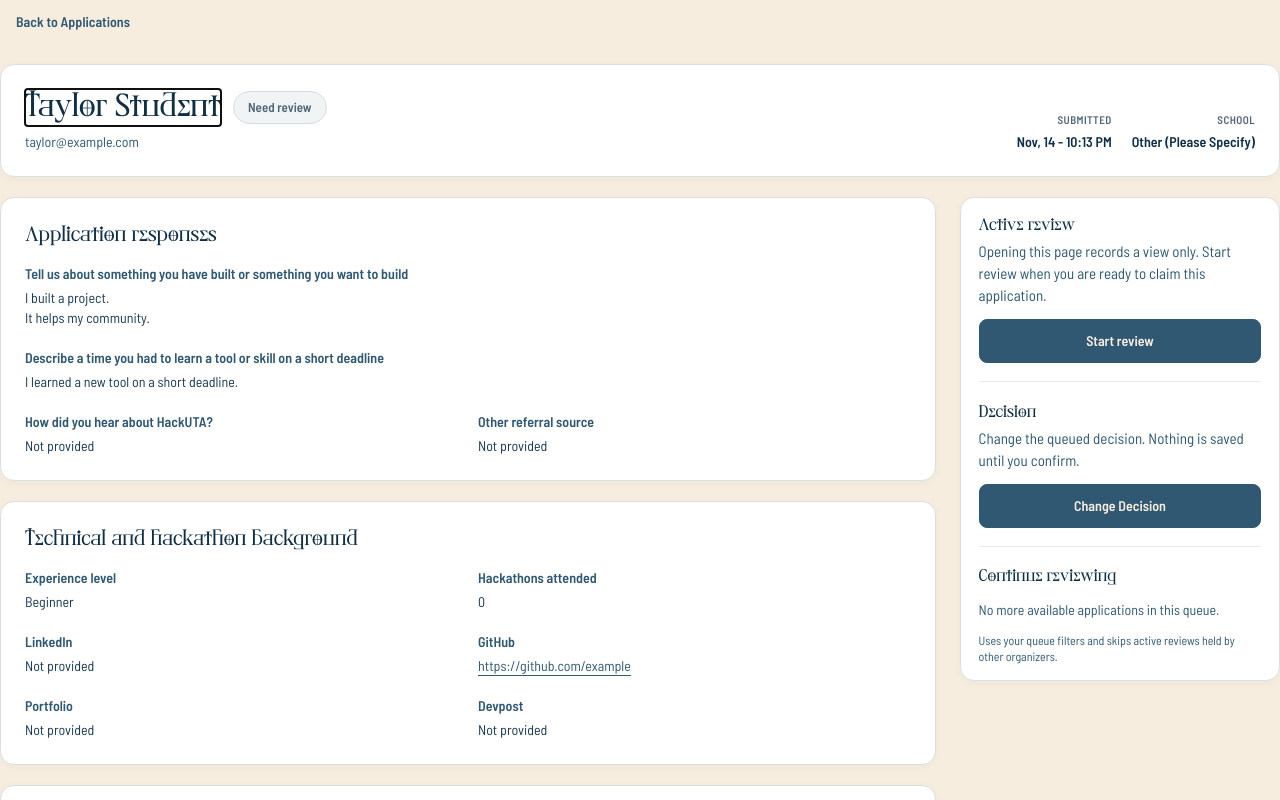
Test: read-only application review page › supports the Back to Applications link without generating another log
The width and height of the screenshot is (1280, 800).
Click the link "Back to Applications". click: (73, 22)
box: [0,0,146,44]
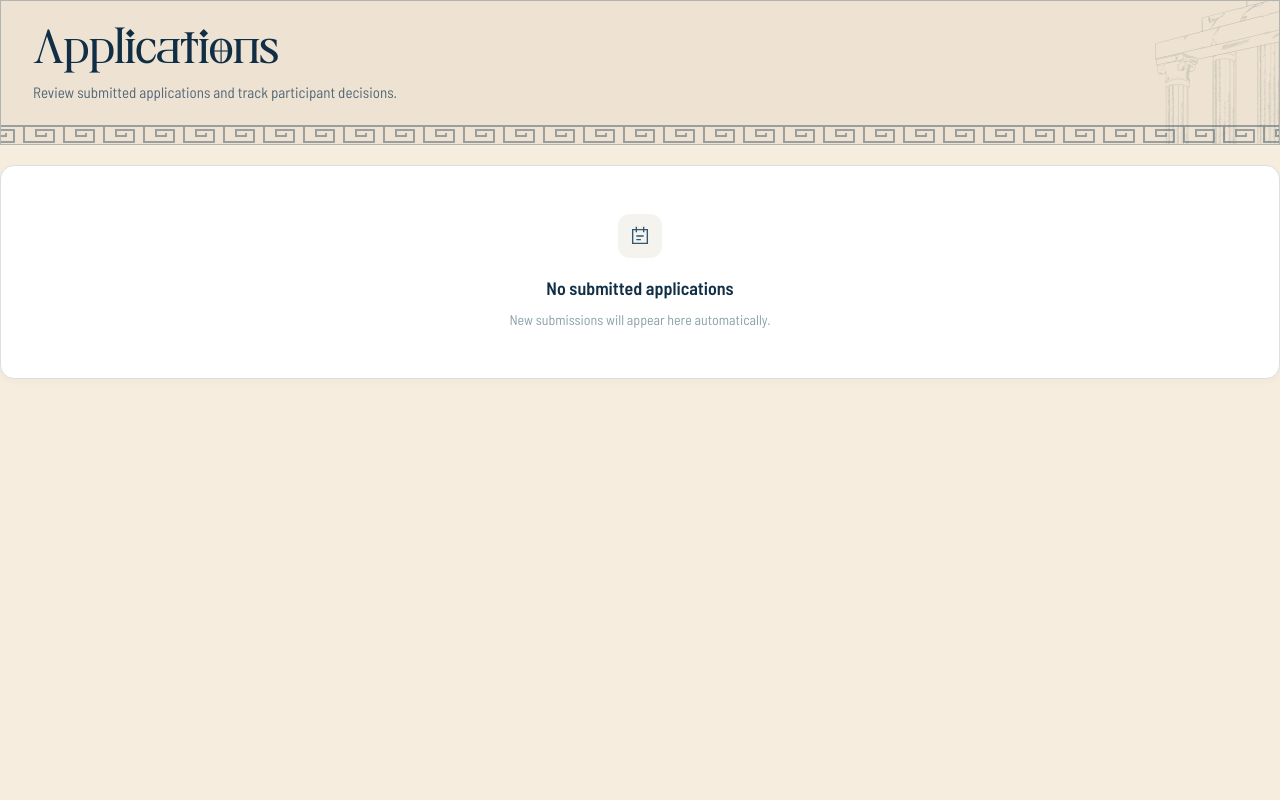
Expected: the text "No submitted applications" is shown, [546,276,734,298]
